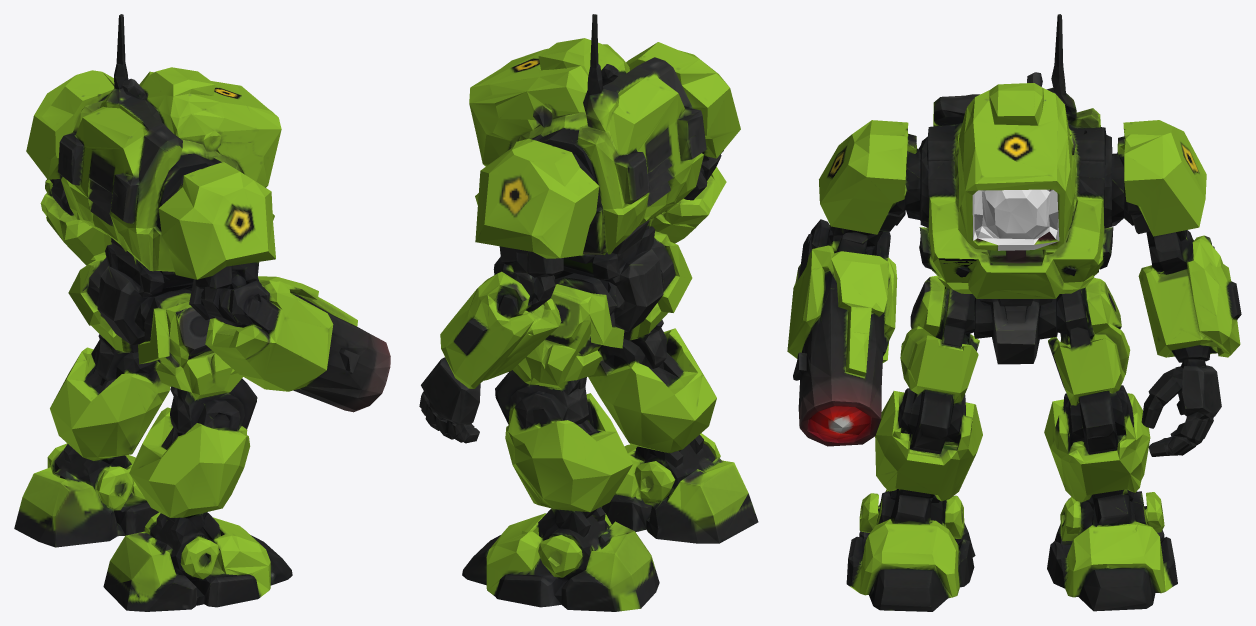
The model's file is shooter_meshy_game.fbx.
3 views of the same model, side by side, from view 1: azimuth 30°, elevation 25°; view 2: azimuth 150°, elevation 25°; view 3: azimuth 270°, elevation 25° (orthographic). The views are drawn at different scales.
Parts seen in each view (by area): view 1: SM_Shooter_Meshy; view 2: SM_Shooter_Meshy; view 3: SM_Shooter_Meshy.
Boxes of the visible parts, bbox=[...] form: SM_Shooter_Meshy: bbox=[14, 14, 390, 611]; SM_Shooter_Meshy: bbox=[419, 14, 758, 611]; SM_Shooter_Meshy: bbox=[787, 14, 1241, 611].
Size of the model in its own units: 82.59 by 176 by 132.
Materials: 2 (1 with a texture image).
